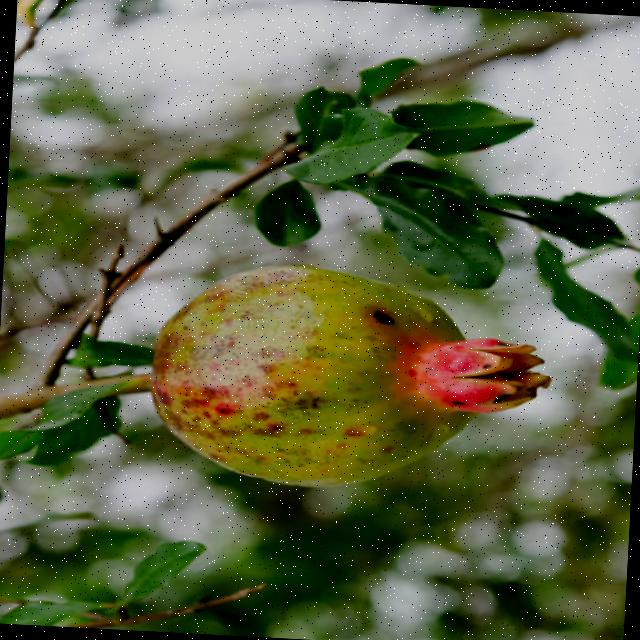Pomegranate: (140, 253, 558, 502)
